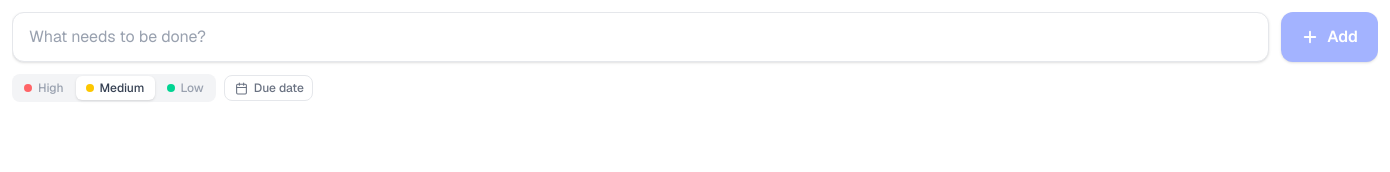
it: TodoInput › submit button is enabled when input has text
The image size is (1390, 172).
In the field: coordinates (641, 37) [12, 12, 1269, 62], type "Buy milk"
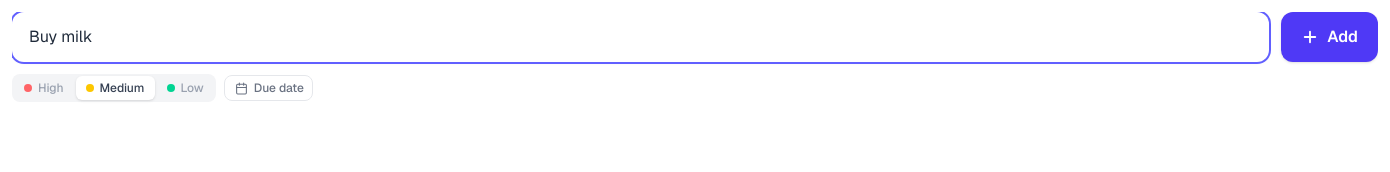
Now the button with aria-label "Add todo" is enabled, box [1281, 12, 1378, 62]
